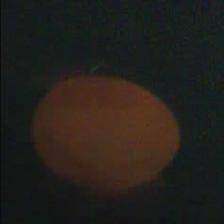fertile: (27, 70, 186, 194)
